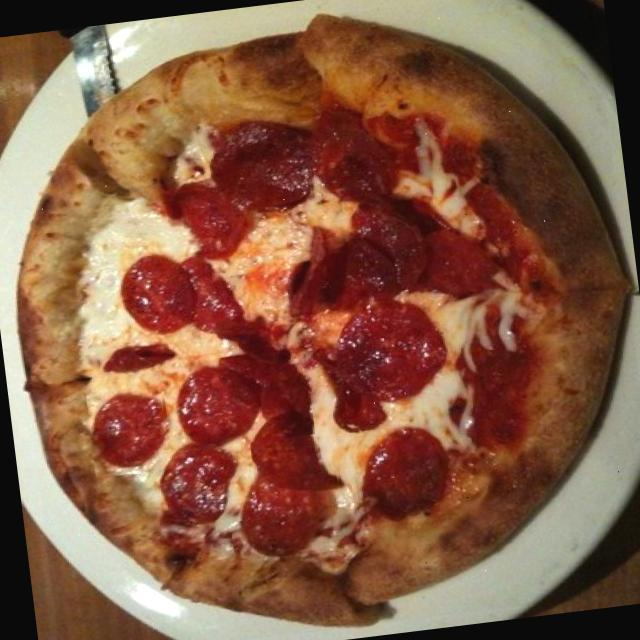pepperoni: (274, 192, 506, 314), (216, 402, 348, 560), (163, 346, 314, 450), (331, 298, 461, 410), (104, 232, 230, 346), (340, 414, 462, 530), (197, 110, 320, 222), (302, 100, 406, 202), (154, 172, 249, 276), (154, 440, 258, 530), (84, 372, 170, 478)
pizza: (16, 15, 627, 626)
